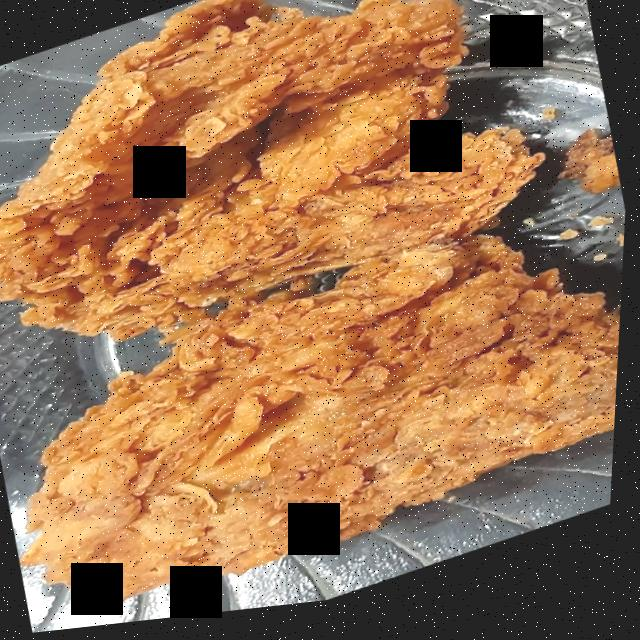Frango: (0, 190, 630, 638), (0, 0, 567, 391)
